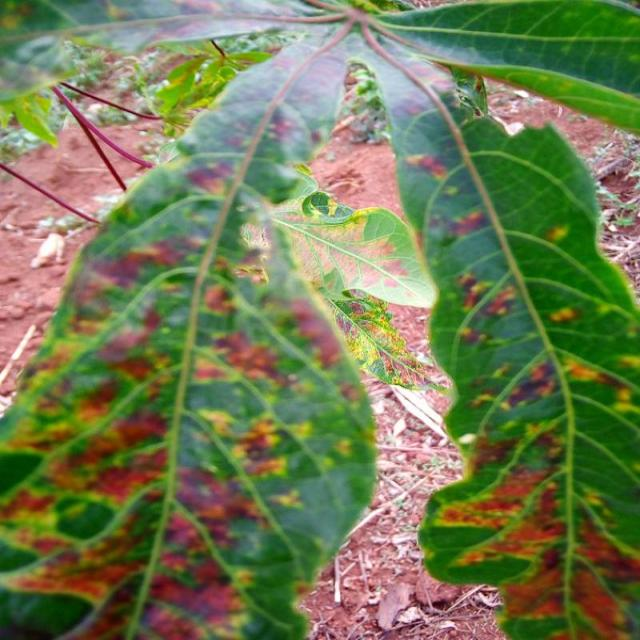cassava leaf: (1, 1, 638, 639)
